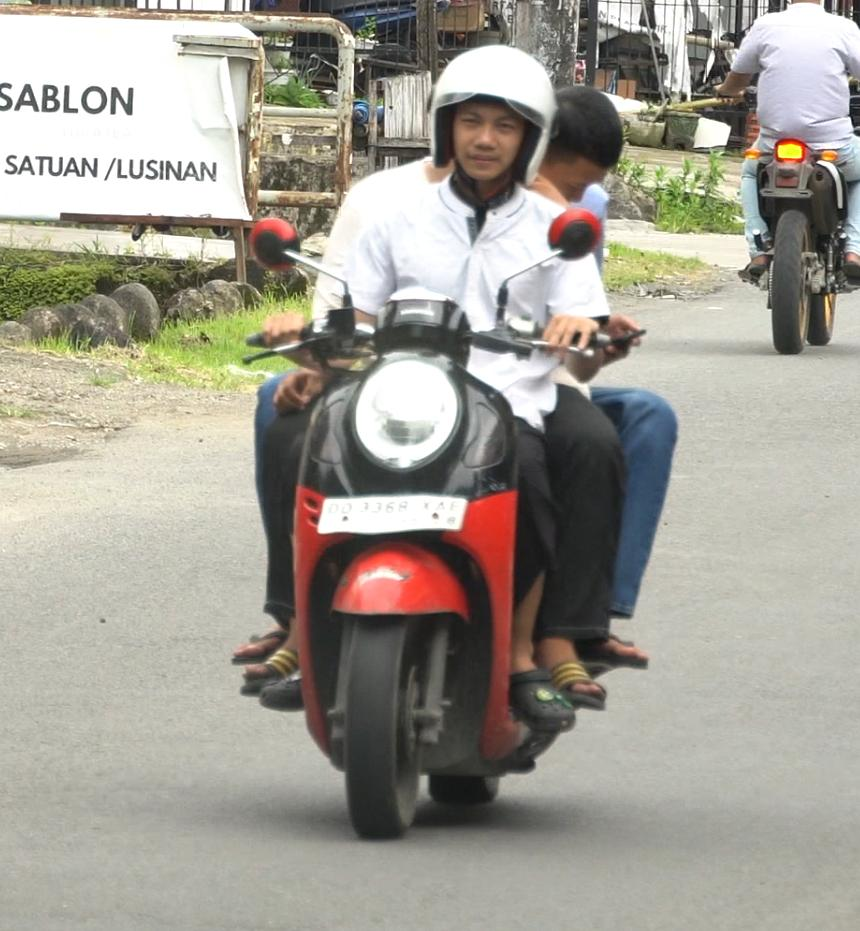number-plate: (313, 489, 477, 540)
